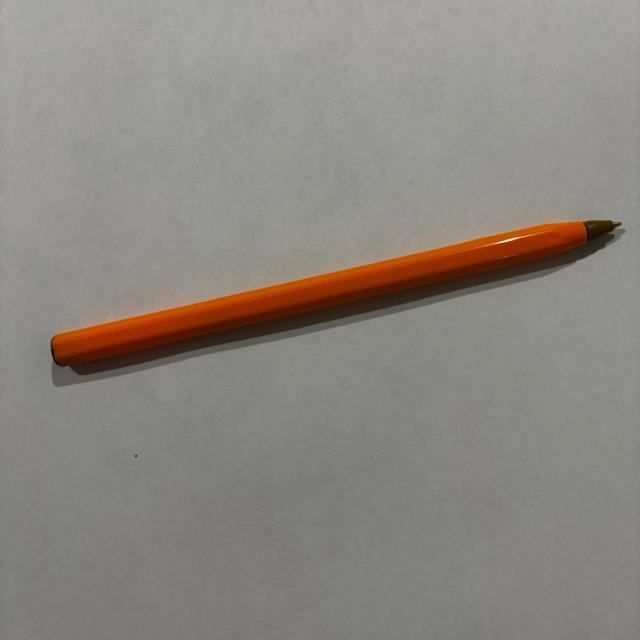pencil: (49, 220, 623, 367)
